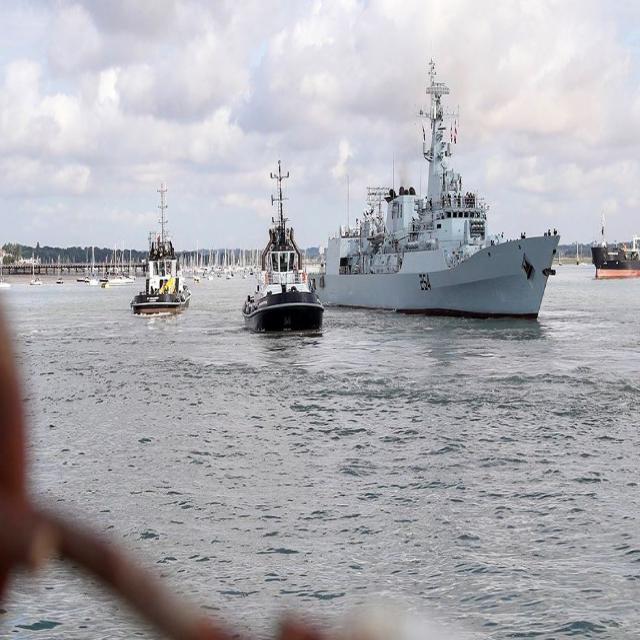Frigate-Zulfiquar-Class-PAK: (320, 62, 560, 326)
